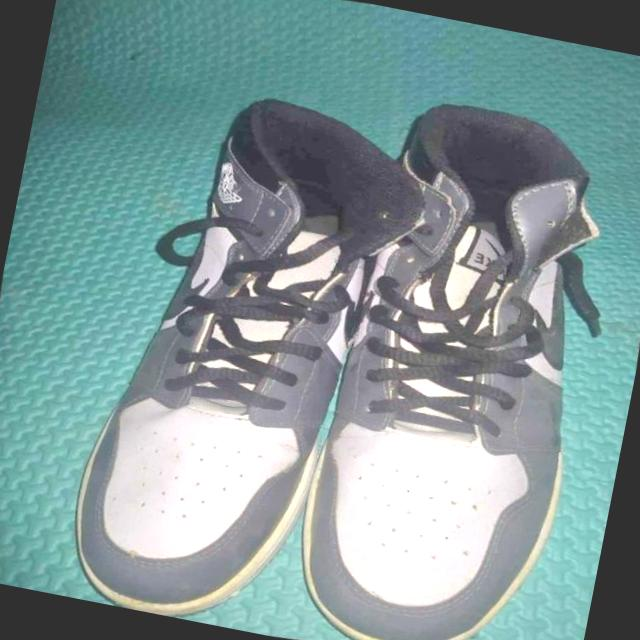nike_fake_jordan: (0, 54, 453, 640), (260, 74, 640, 640)
